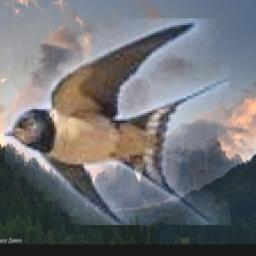Swallow: (5, 18, 231, 225)
